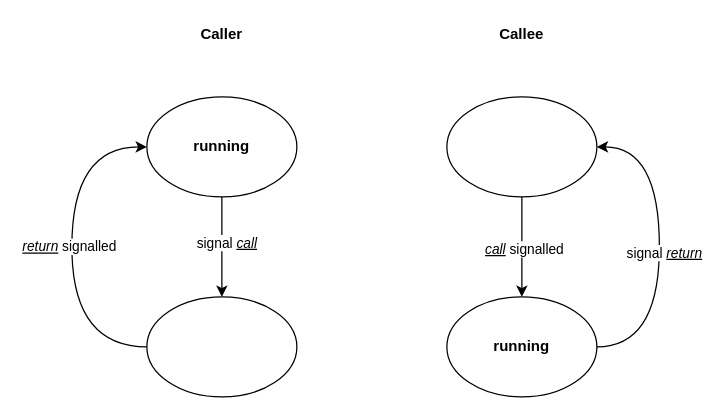
The diagram is 723 pixels wide and 419 high, and some of its shapes have lost their labels. Here are the shapes that lost their labels. From the top down, the centre of each, then its label:
At (521,146): "[wait call ] idle".
At (221,346): "[wait return ] blocked".
